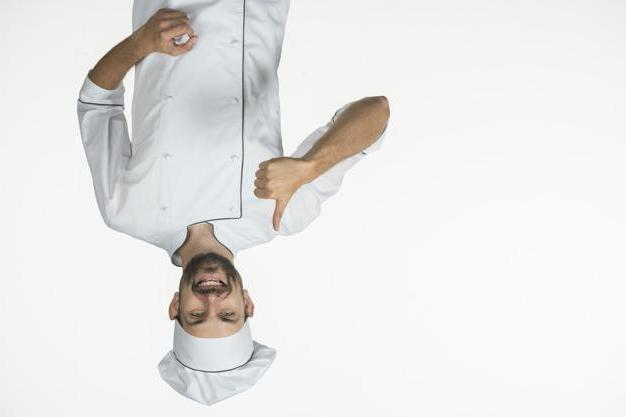thumbsdown: (253, 160, 289, 232)
